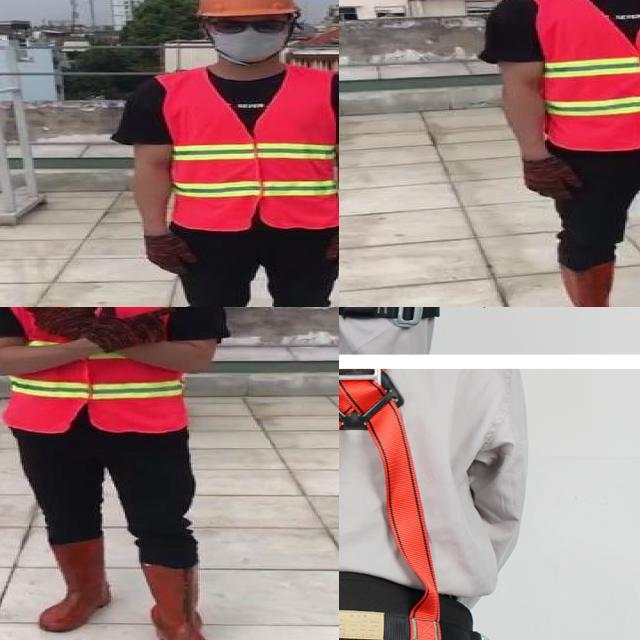Harness: (339, 370, 481, 640)
boots: (37, 539, 114, 635), (140, 563, 223, 640), (553, 262, 621, 307)
face_mask: (210, 15, 292, 63)
glasses: (204, 12, 298, 40)
hand_glove: (140, 233, 198, 276), (526, 156, 580, 201), (321, 227, 339, 270)
head_helmet: (193, 0, 298, 20)
person: (0, 307, 259, 640), (110, 0, 339, 307), (495, 0, 640, 307)
vest: (155, 67, 339, 228), (0, 307, 188, 433), (531, 0, 640, 151)
